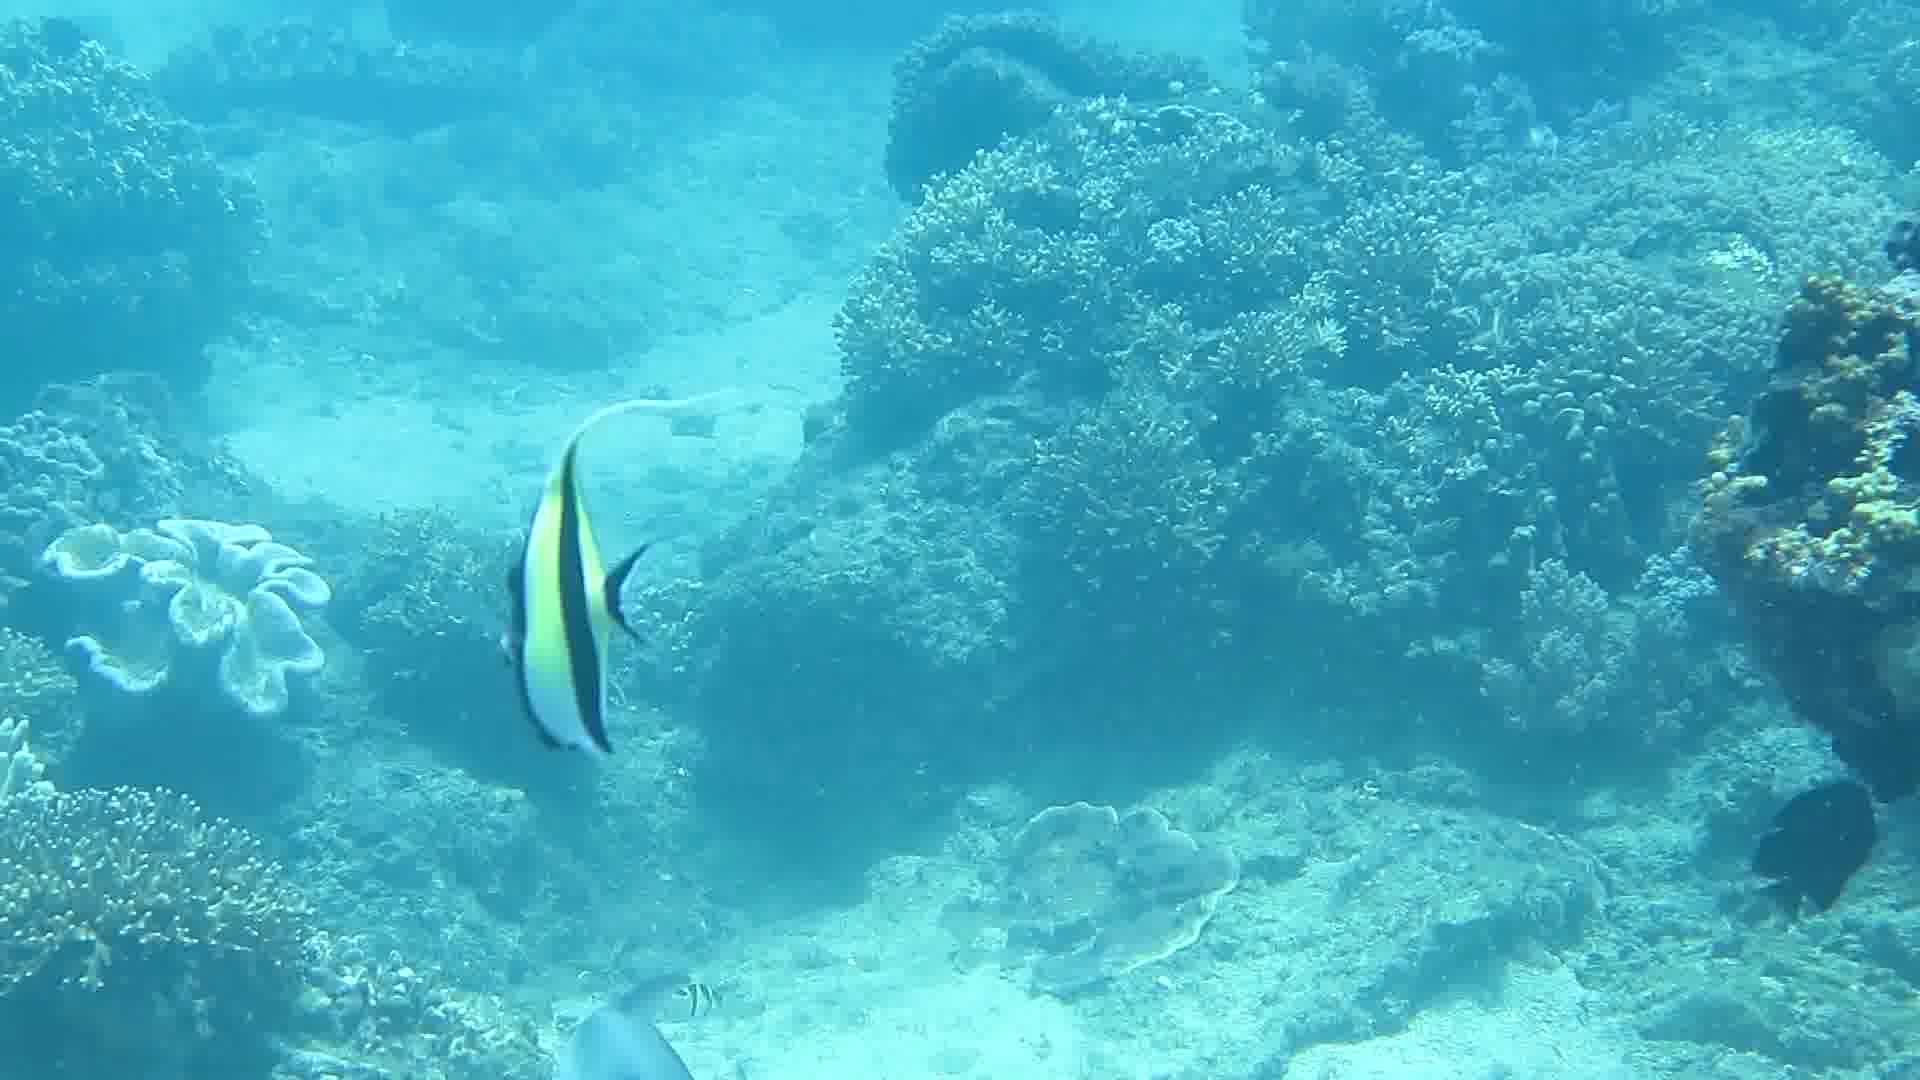Zanclus cornutus: (447, 406, 700, 785)
